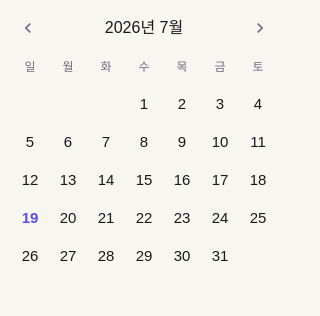
Scenario: Calendar (ASS-209) › 월 라벨과 이전/다음 달 이동
Expected: the text "2026년 7월" is shown, [105,16,183,40]
What coordinates should you click on to do the following:
click the button named "다음 달"
I would click on:
 (260, 28)
Its box is [244,12,276,44].
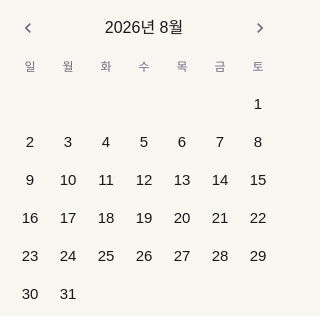
Now the text "2026년 8월" is shown, box [105,16,183,40]
What coordinates should you click on to do the following:
click the button named "이전 달"
I would click on:
 (28, 28)
Its box is [12,12,44,44].
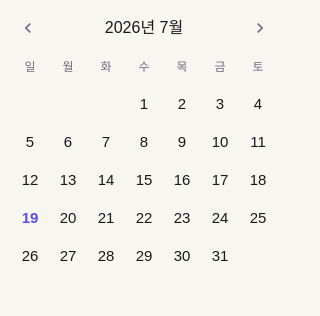
What coordinates should you click on to do the following:
click the button named "이전 달"
I would click on:
 (28, 28)
Its box is [12,12,44,44].
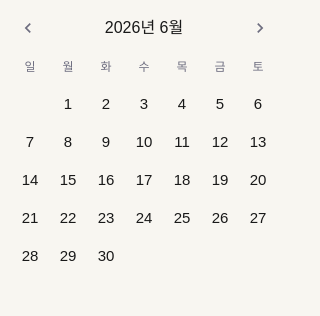
Now the text "2026년 6월" is shown, box [105,16,183,40]
